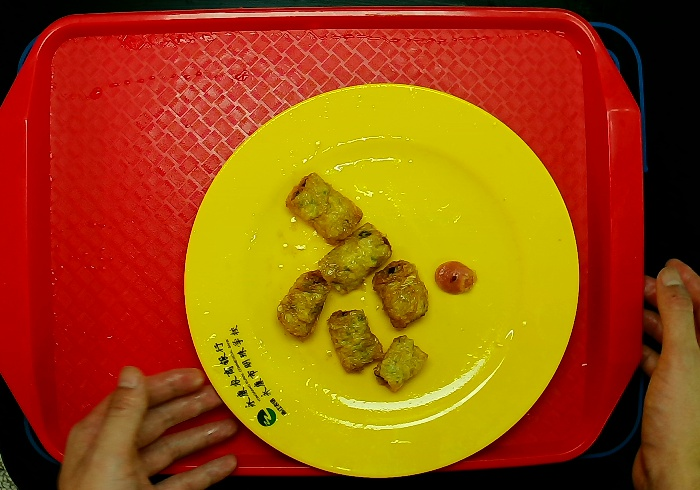YKMZ-Huang_Se_Mian_Pan: (171, 79, 593, 484)
